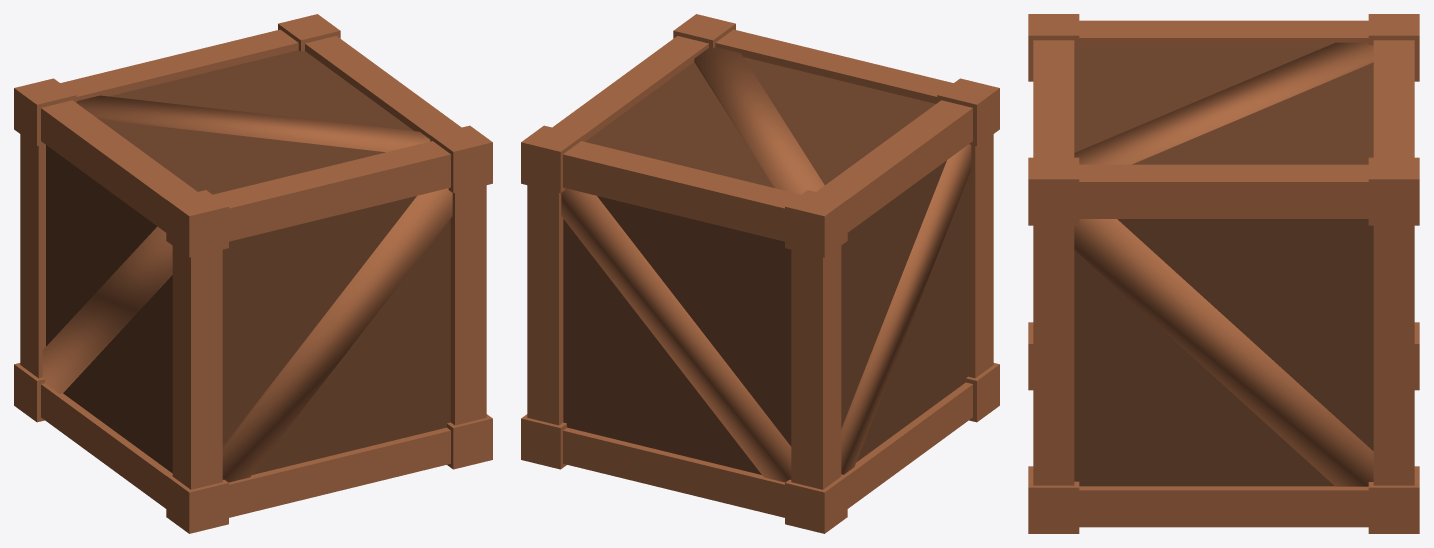
File: CrateImport.fbx
The picture shows the model from 3 angles, left to right: view 1: azimuth 30°, elevation 25°; view 2: azimuth 150°, elevation 25°; view 3: azimuth 270°, elevation 25°; orthographic projection. The views are drawn at different scales.
Parts seen in each view (by area): view 1: Frame, Inside; view 2: Frame, Inside; view 3: Frame, Inside.
Part boxes in pixels (box(x1,y1,x2,y2)): Frame: box(14, 14, 492, 533); Inside: box(46, 50, 450, 474); Frame: box(521, 14, 999, 533); Inside: box(563, 57, 967, 474); Frame: box(1028, 14, 1419, 533); Inside: box(1074, 46, 1373, 486).
Size of the model in its own units: 230 by 230 by 230.
